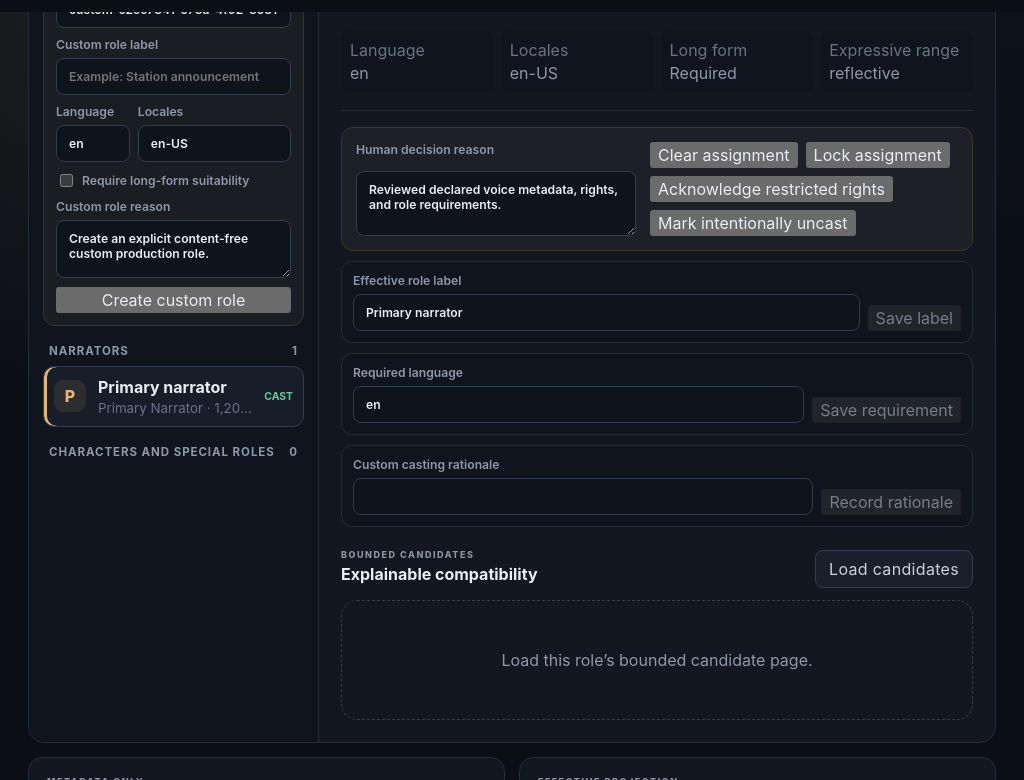
CastingWorkspace › renders governed prerequisites, lazy roles/candidates, rights, conflicts, and gates
(page scrolled)
What coordinates should you click on to do the following:
click the button "P Primary narrator Primary Narrator · 1,200 words Cast"
I would click on:
 (174, 396)
Its box is [43,366,304,427].
(page scrolled)
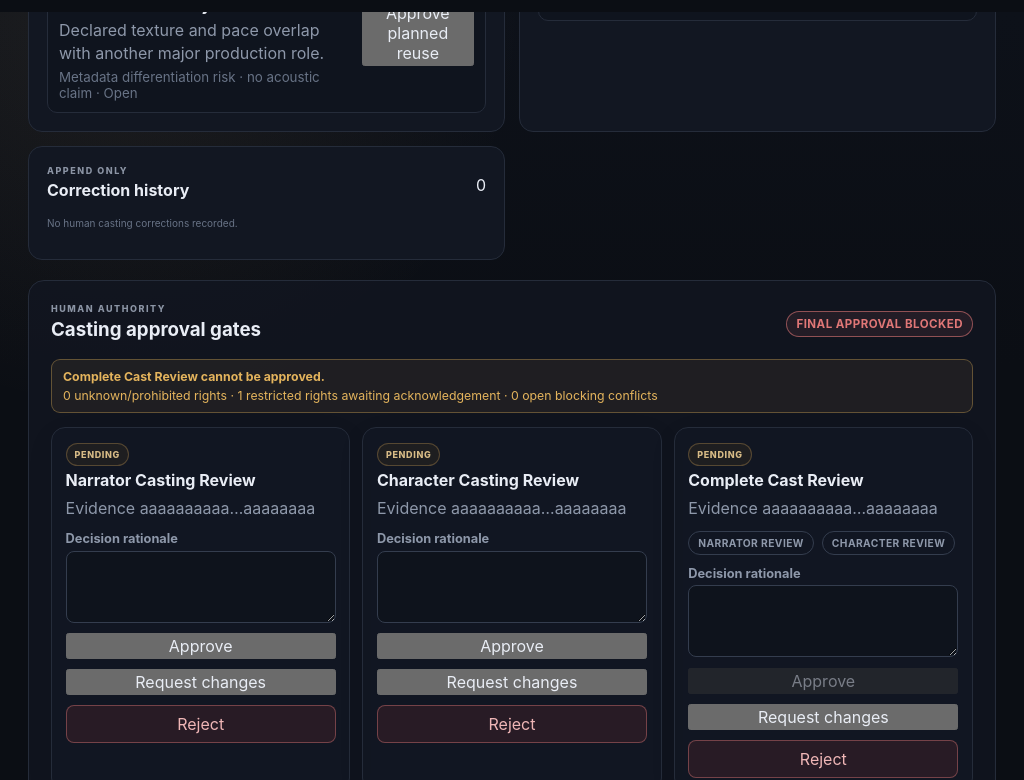
Result: the button "Approve planned reuse" is shown at [362,12,474,66]
Result: the element "Complete Cast Review" is shown at [674,427,973,779]
Result: the text "restricted rights awaiting acknowledgement" is shown at [242,388,511,403]
